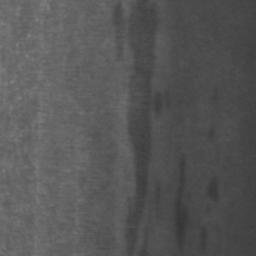Inclusion: (124, 0, 160, 256), (175, 197, 189, 247), (113, 4, 125, 56), (207, 177, 220, 202)
